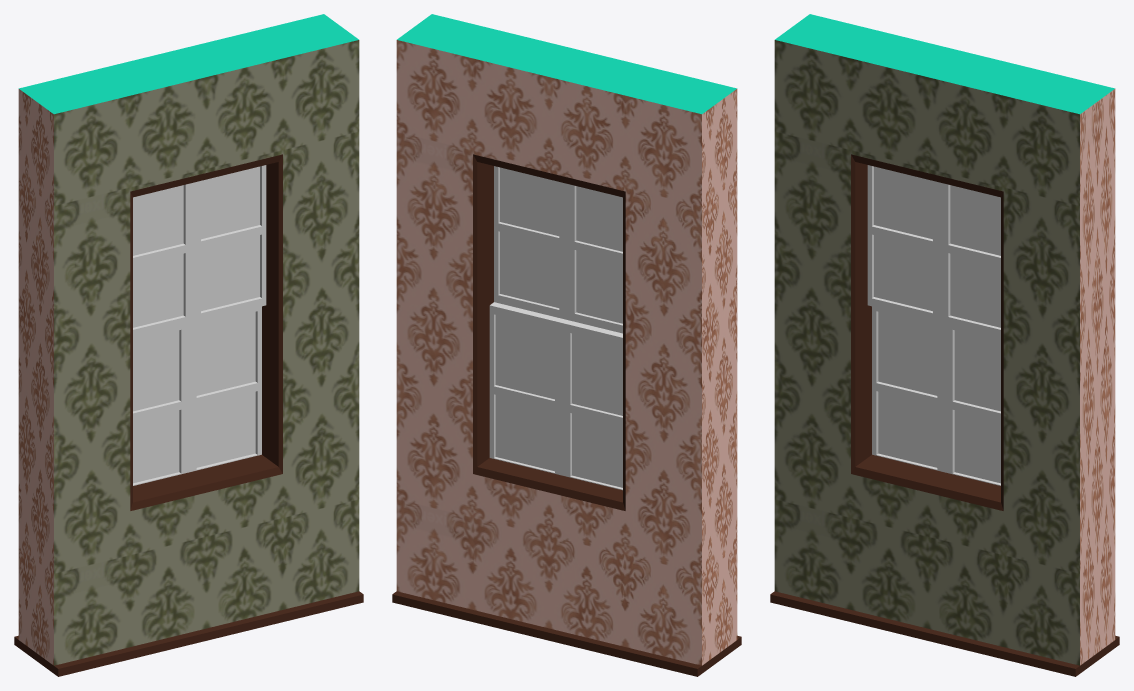
Rendered from Wall - Window Pivot Fixed.fbx.
3 views of the same model, side by side, from view 1: azimuth 30°, elevation 25°; view 2: azimuth 150°, elevation 25°; view 3: azimuth 330°, elevation 25° (orthographic).
Visible parts, largest first — view 1: Cube.013, Cube.014, Cube.012; view 2: Cube.013, Cube.014, Cube.012; view 3: Cube.013, Cube.014, Cube.012.
Part boxes in pixels (x1,y1,x2,y2): Cube.013: [14, 14, 363, 676]; Cube.014: [133, 306, 261, 485]; Cube.012: [133, 165, 266, 337]; Cube.013: [392, 14, 741, 676]; Cube.014: [489, 302, 622, 490]; Cube.012: [494, 166, 622, 333]; Cube.013: [770, 14, 1119, 676]; Cube.014: [872, 306, 1000, 485]; Cube.012: [867, 165, 1000, 337].
Bounding box in the file's own units: 400 × 700 × 100.
